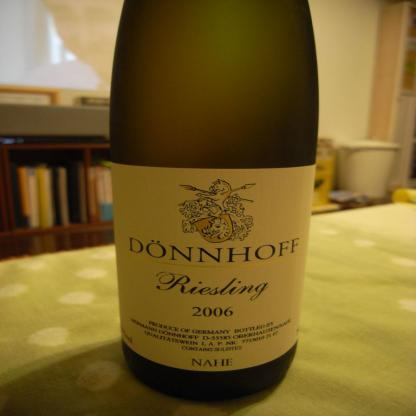book: (13, 165, 58, 230), (101, 163, 117, 222), (54, 166, 70, 224), (94, 164, 108, 222)
